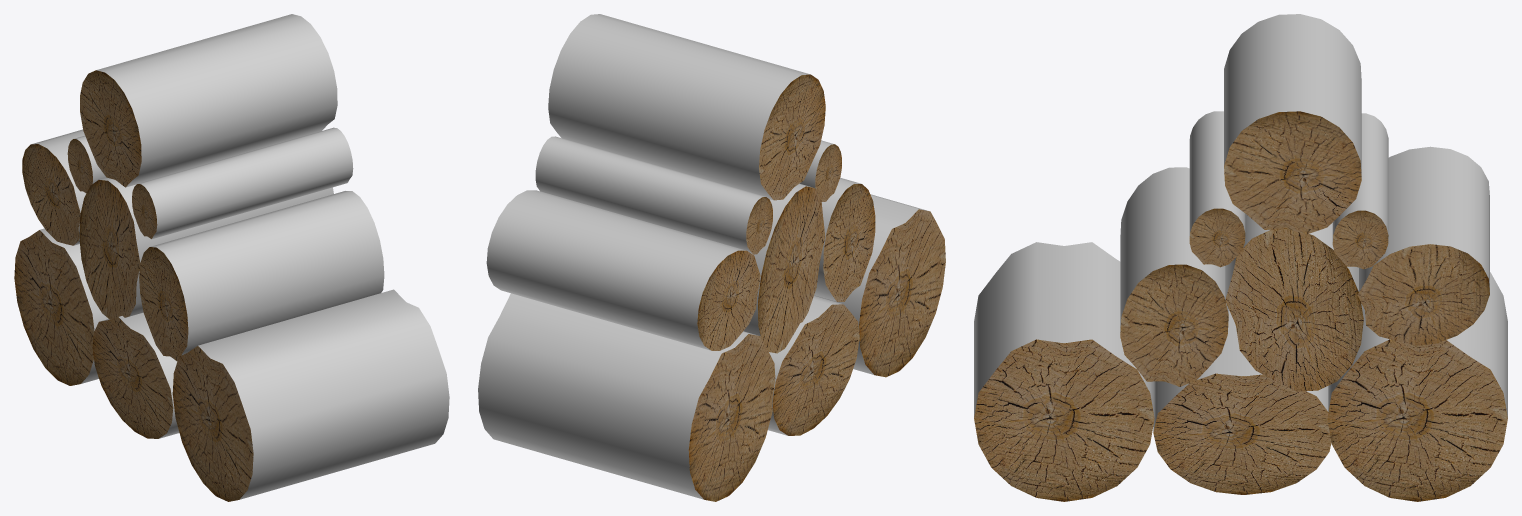
File: Wood_Pile.fbx
The picture shows the model from 3 angles, left to right: view 1: azimuth 30°, elevation 25°; view 2: azimuth 150°, elevation 25°; view 3: azimuth 270°, elevation 25°; orthographic projection. The views are drawn at different scales.
Visible parts, largest first — view 1: pCylinder11; view 2: pCylinder11; view 3: pCylinder11.
Part boxes in pixels (x1=…): pCylinder11: x1=14, y1=14, x2=449, y2=501; pCylinder11: x1=478, y1=14, x2=945, y2=501; pCylinder11: x1=974, y1=14, x2=1507, y2=501.
Size of the model in its own units: 739 by 1247 by 1519.
